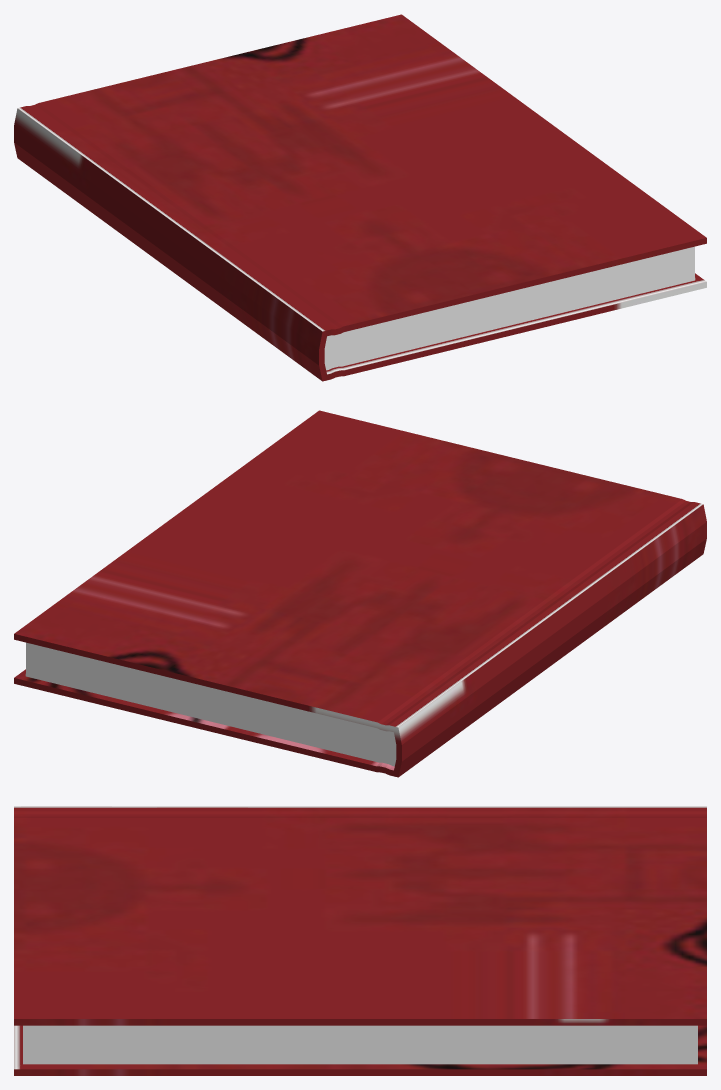
The model's file is Architexturebook.fbx.
3 renders of one model, top to bottom at view 1: azimuth 30°, elevation 25°; view 2: azimuth 150°, elevation 25°; view 3: azimuth 270°, elevation 25°, orthographic. The views are drawn at different scales.
Parts seen in each view (by area): view 1: Architexture; view 2: Architexture; view 3: Architexture.
Part boxes in pixels (left/top/right/bottom): Architexture: left=14, top=14, right=706, bottom=381; Architexture: left=14, top=410, right=706, bottom=777; Architexture: left=14, top=806, right=706, bottom=1075.
Bounding box in the file's own units: 73.38 × 9.04 × 100.
